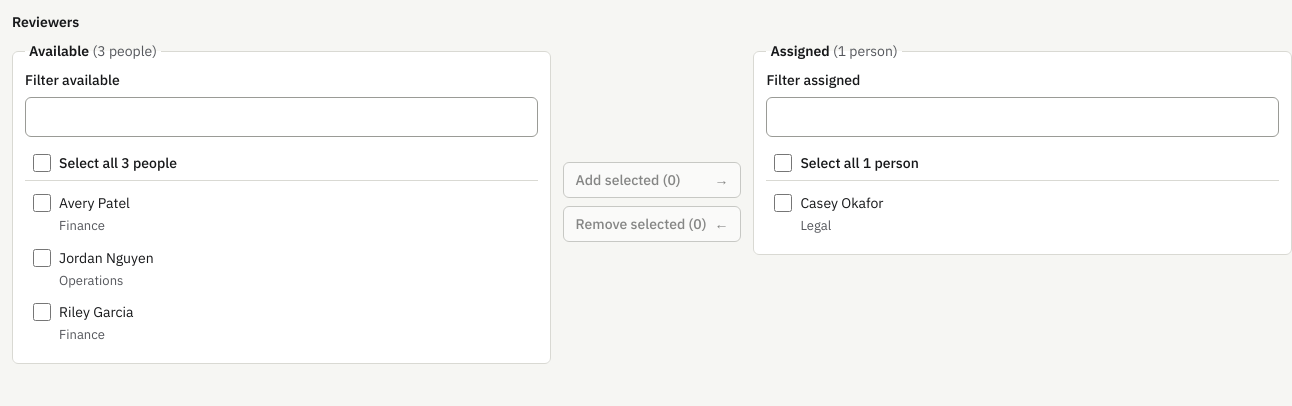
it: TransferList › adds checked items, announces the move, and keeps focus on the button
The image size is (1292, 406).
What coordinates should you click on to do the following:
click the checkbox labelled "Avery Patel Finance"
I would click on:
 (42, 203)
Its box is [33,194,51,212].
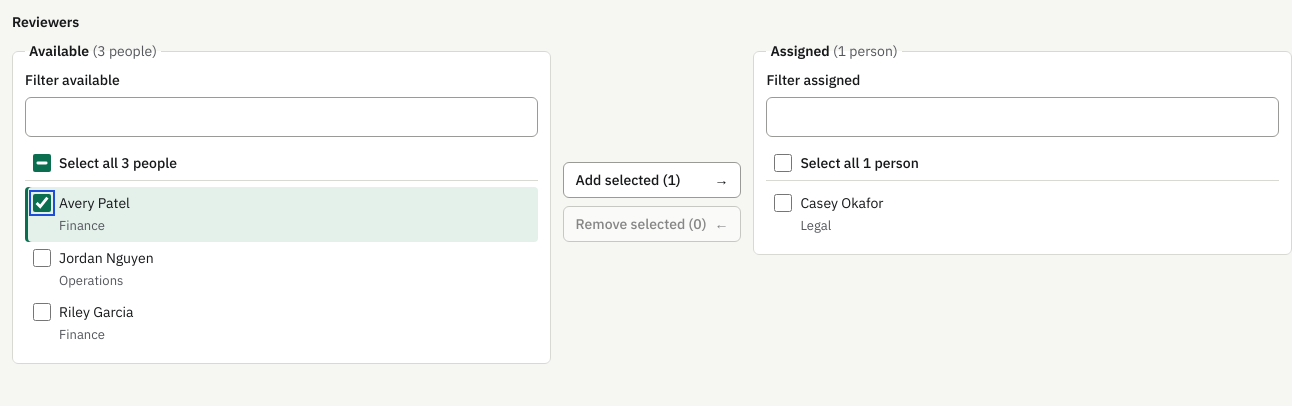
What coordinates should you click on to do the following:
click the checkbox labelled "Riley Garcia Finance"
I would click on:
 (42, 312)
Its box is [33,303,51,321].
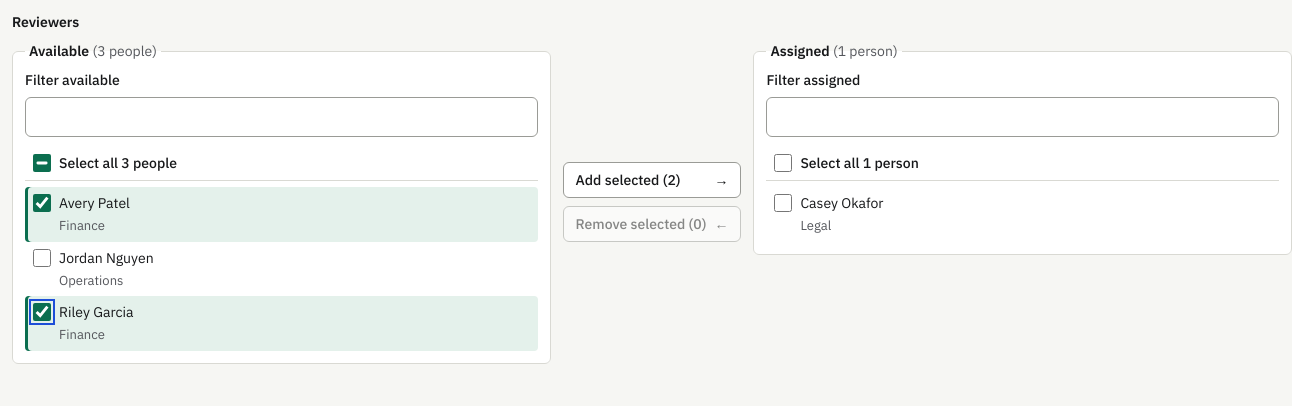
What coordinates should you click on to do the following:
click the button "Add selected (2) →"
I would click on:
 (652, 180)
Its box is [563,162,741,198].
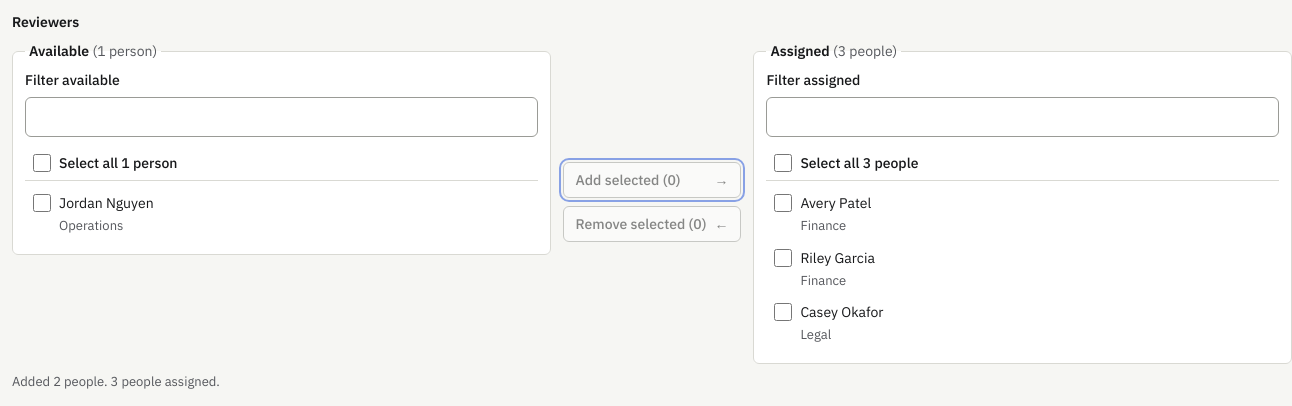
Check: the list items read "Avery PatelFinance", "Riley GarciaFinance", "Casey OkaforLegal", in this order, box [774,194,871,234]; [774,248,875,288]; [774,303,884,343]
Check: the message reads "Added 2 people. 3 people assigned.", box [12,372,220,390]
